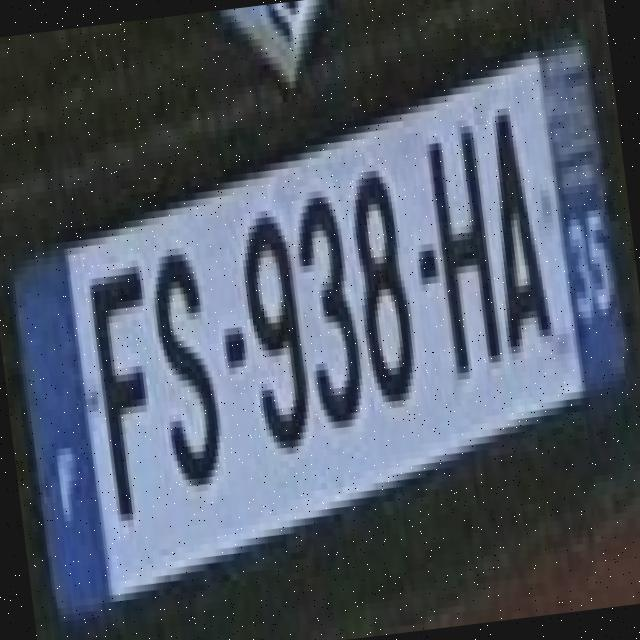EU: (12, 28, 629, 610)
France: (13, 259, 112, 617)
